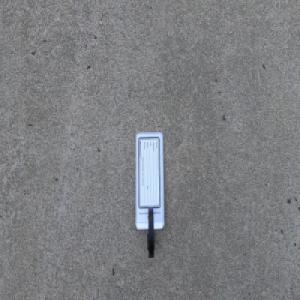LuggageTag: (133, 130, 165, 261)
